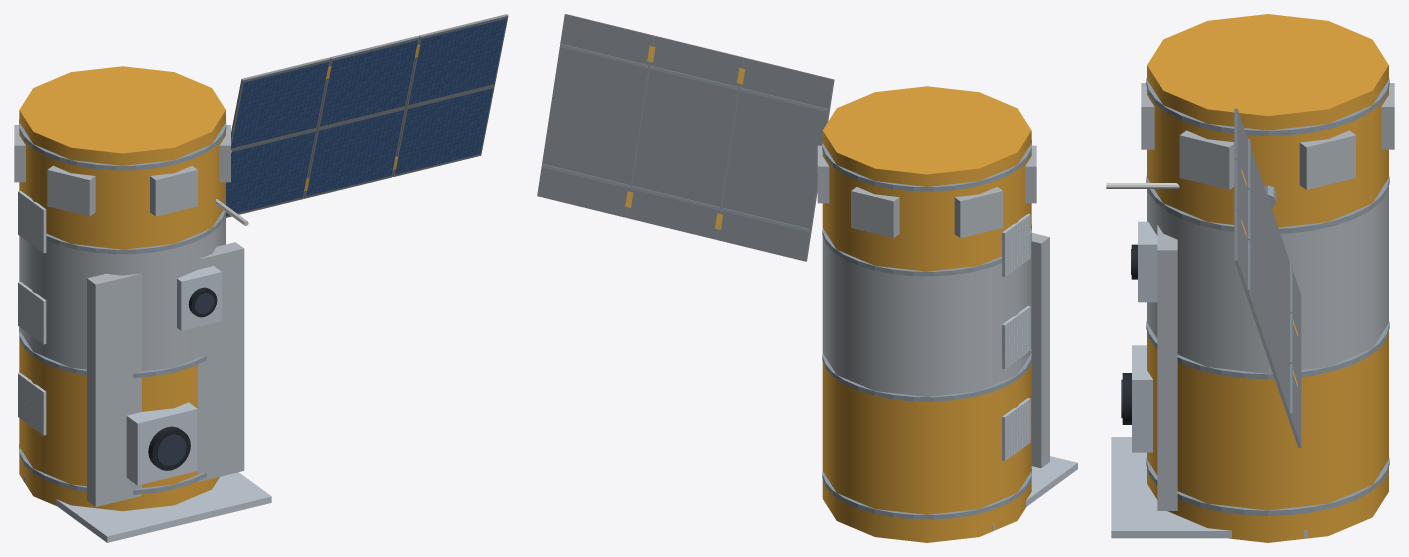
The model's file is tiros-n.glb.
3 views of the same model, side by side, from view 1: azimuth 30°, elevation 25°; view 2: azimuth 150°, elevation 25°; view 3: azimuth 270°, elevation 25° (orthographic). The views are drawn at different scales.
Visible parts, largest first — view 1: Solar cell strings (×6), Reaction control module, Instrument mounting tray, Instrument mounting platform, Equipment support module, Instrument sun shield, Aft equipment pack (×4), Solar panel substrate (×3), Bus flange (×4), Thermal louver panel (×3), AVHRR scanning radiometer housing, Infrared sounder housing (+2 smaller); view 2: Solar panel substrate (×3), Reaction control module, Equipment support module, Instrument mounting platform, Bus flange (×4), Aft equipment pack (×3), Instrument mounting tray, Thermal louver panel (×3), Instrument sun shield; view 3: Reaction control module, Equipment support module, Instrument mounting platform, Solar panel substrate (×3), Aft equipment pack (×4), Bus flange (×4), Instrument mounting tray, Instrument sun shield, AVHRR scanning radiometer housing, Infrared sounder housing, AVHRR scanning radiometer aperture, Data collection antenna.
Boxes of the visible parts, box(x1,y1,x2,y2) form: Solar cell strings (×6): box(226, 18, 506, 215); Reaction control module: box(19, 66, 225, 249); Instrument mounting tray: box(87, 242, 244, 506); Instrument mounting platform: box(19, 215, 225, 371); Equipment support module: box(19, 337, 219, 511); Instrument sun shield: box(23, 472, 271, 542); Aft equipment pack (×4): box(14, 125, 230, 216); Solar panel substrate (×3): box(226, 14, 508, 217); Bus flange (×4): box(19, 119, 226, 494); Thermal louver panel (×3): box(18, 190, 46, 435); AVHRR scanning radiometer housing: box(126, 402, 197, 485); Infrared sounder housing: box(177, 266, 221, 330); Solar panel substrate (×3): box(537, 14, 834, 261); Reaction control module: box(822, 86, 1031, 271); Equipment support module: box(822, 360, 1031, 542); Instrument mounting platform: box(822, 235, 1031, 396); Bus flange (×4): box(822, 140, 1031, 519); Aft equipment pack (×3): box(817, 145, 1003, 238); Instrument mounting tray: box(1031, 233, 1049, 468); Thermal louver panel (×3): box(1002, 213, 1030, 461); Instrument sun shield: box(992, 456, 1077, 530); Reaction control module: box(1147, 14, 1388, 227); Equipment support module: box(1147, 331, 1388, 542); Instrument mounting platform: box(1147, 186, 1388, 373); Solar panel substrate (×3): box(1234, 108, 1301, 447); Aft equipment pack (×4): box(1141, 83, 1394, 189); Bus flange (×4): box(1146, 77, 1389, 515); Instrument mounting tray: box(1157, 225, 1177, 510); Instrument sun shield: box(1111, 437, 1307, 538); AVHRR scanning radiometer housing: box(1132, 345, 1152, 452); Infrared sounder housing: box(1138, 221, 1157, 302); AVHRR scanning radiometer aperture: box(1122, 373, 1131, 424); Data collection antenna: box(1106, 183, 1179, 188).
Bounding box in the file's own units: 4.92 × 3.85 × 2.27.
Materials: 11 (2 with a texture image).
